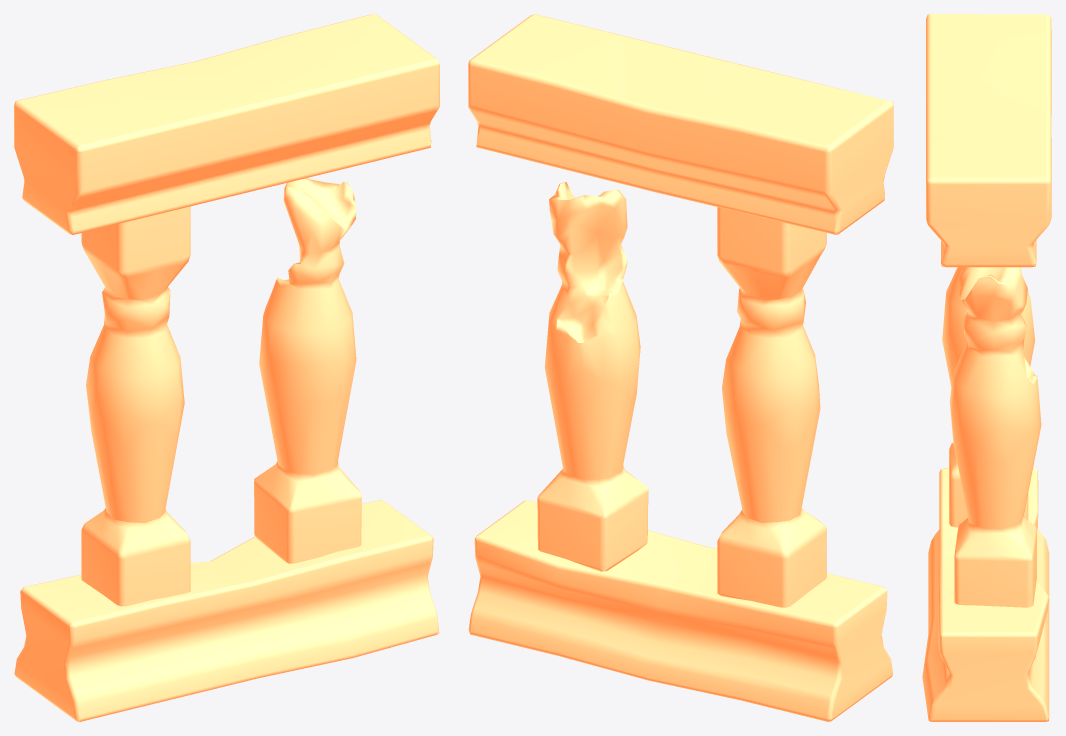
File: SM_Pillars_Small.fbx
3 views of the same model, side by side, from view 1: azimuth 30°, elevation 25°; view 2: azimuth 150°, elevation 25°; view 3: azimuth 270°, elevation 25° (orthographic). The views are drawn at different scales.
Parts seen in each view (by area): view 1: SM_Pillars_Small_LOD0; view 2: SM_Pillars_Small_LOD0; view 3: SM_Pillars_Small_LOD0.
Boxes of the visible parts, left/top/right/bottom form: SM_Pillars_Small_LOD0: left=14, top=14, right=439, bottom=721; SM_Pillars_Small_LOD0: left=468, top=14, right=893, bottom=721; SM_Pillars_Small_LOD0: left=922, top=14, right=1051, bottom=721.
Size of the model in its own units: 100 by 32.59 by 152.
